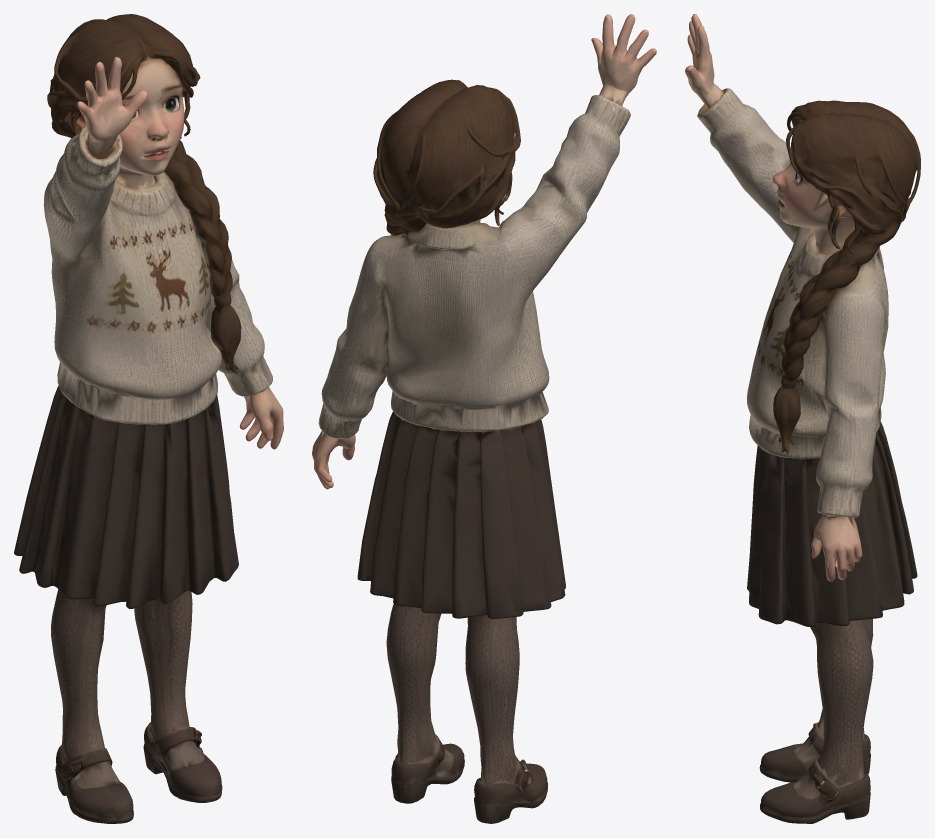
Rendered from ema.glb.
3 views of the same model, side by side, from view 1: azimuth 30°, elevation 25°; view 2: azimuth 150°, elevation 25°; view 3: azimuth 270°, elevation 25° (orthographic). The views are drawn at different scales.
Parts seen in each view (by area): view 1: tripo_node_3c835e59-63b0-41c6-9e0a-4df5247548d2; view 2: tripo_node_3c835e59-63b0-41c6-9e0a-4df5247548d2; view 3: tripo_node_3c835e59-63b0-41c6-9e0a-4df5247548d2.
Boxes of the visible parts, x1,y1,x2,y2 form: tripo_node_3c835e59-63b0-41c6-9e0a-4df5247548d2: (14,14,283,823); tripo_node_3c835e59-63b0-41c6-9e0a-4df5247548d2: (312,14,656,823); tripo_node_3c835e59-63b0-41c6-9e0a-4df5247548d2: (685,14,920,823).
Size of the model in its own units: 0.5316 by 1.45 by 0.4227.
1 material, 1 textured.
